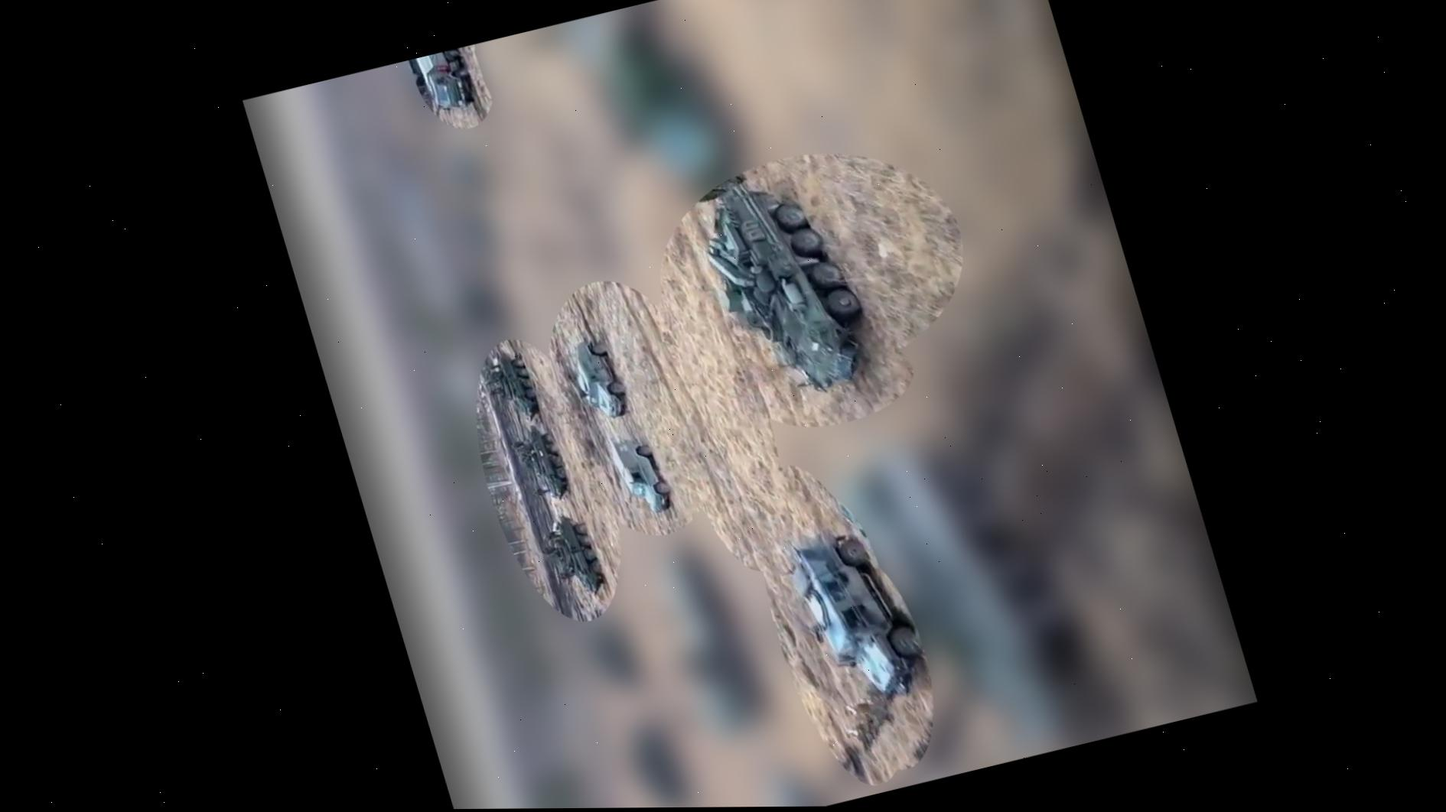armored_car: (684, 164, 884, 408), (777, 518, 937, 712), (542, 504, 610, 602), (565, 333, 633, 424), (608, 432, 677, 518), (516, 419, 573, 504), (487, 346, 545, 426)
truck: (415, 46, 483, 118)
